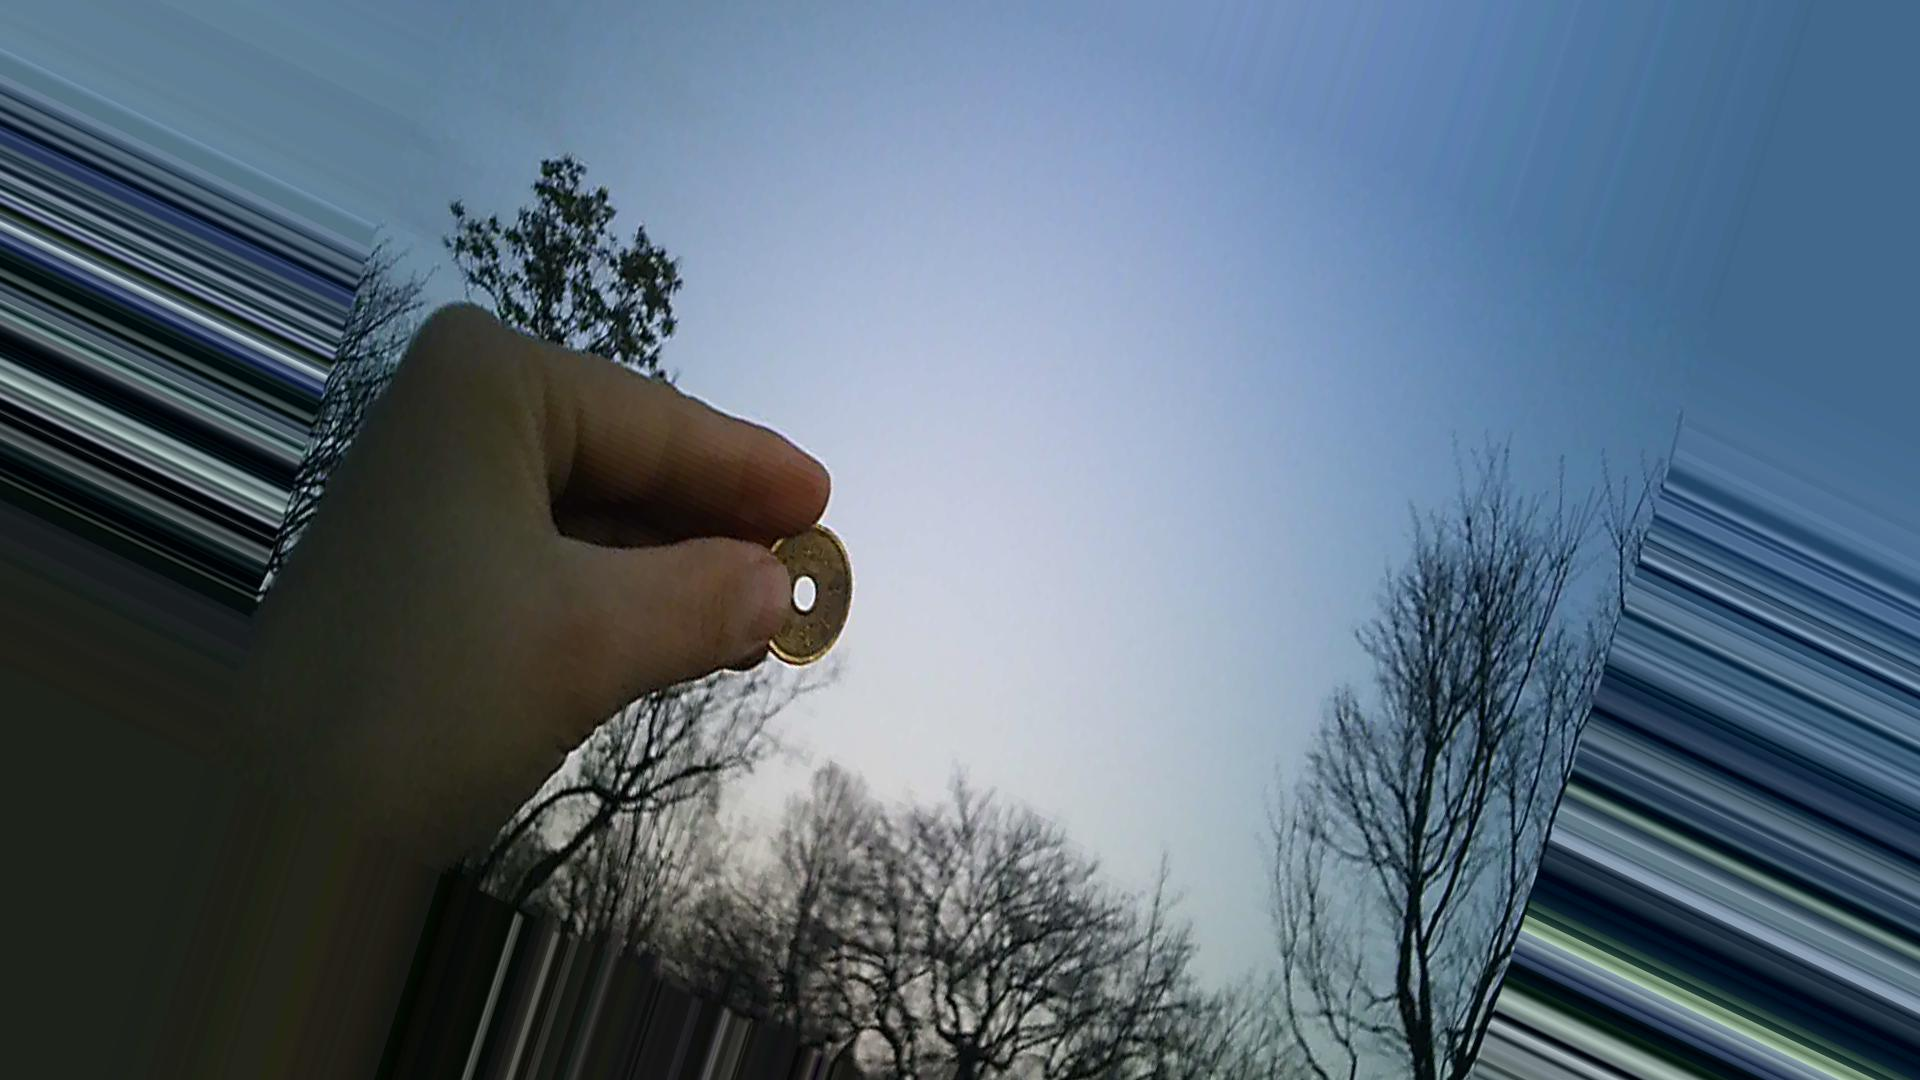5 Yen: (752, 505, 858, 673)
